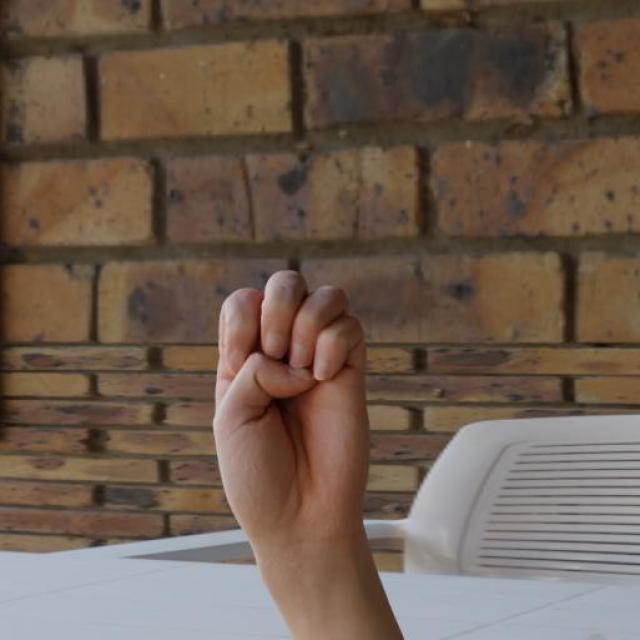E: (209, 263, 376, 547)
